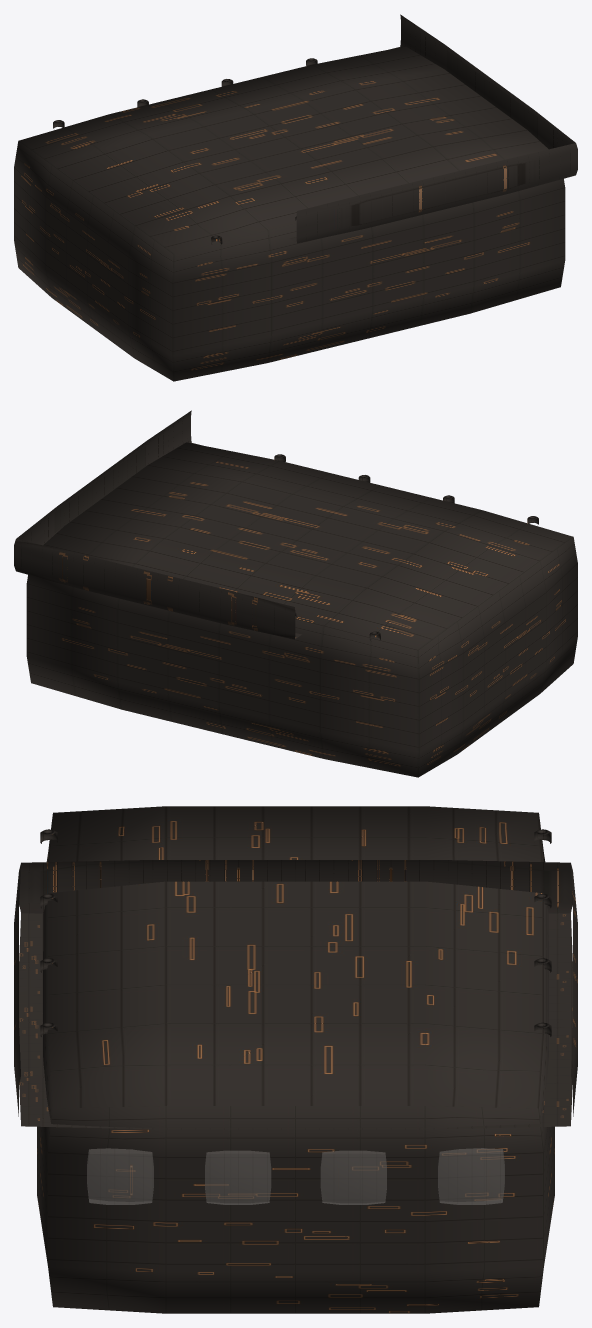
File: cockpit_slab.glb
3 views of the same model, one above another, from view 1: azimuth 30°, elevation 25°; view 2: azimuth 150°, elevation 25°; view 3: azimuth 270°, elevation 25° (orthographic). The views are drawn at different scales.
Visible parts, largest first — view 1: Slab_Bridge_Block, cockpit_slab_Material_Mechanical_Merged; view 2: Slab_Bridge_Block, cockpit_slab_Material_Mechanical_Merged; view 3: Slab_Bridge_Block, cockpit_slab_Material_Mechanical_Merged, cockpit_slab_Material_Glass_Merged.
Boxes of the visible parts, bbox=[...] form: Slab_Bridge_Block: bbox=[14, 46, 565, 381]; cockpit_slab_Material_Mechanical_Merged: bbox=[53, 14, 577, 244]; Slab_Bridge_Block: bbox=[26, 442, 577, 777]; cockpit_slab_Material_Mechanical_Merged: bbox=[14, 410, 538, 640]; Slab_Bridge_Block: bbox=[37, 806, 554, 1313]; cockpit_slab_Material_Mechanical_Merged: bbox=[14, 829, 577, 1129]; cockpit_slab_Material_Glass_Merged: bbox=[87, 1148, 504, 1204].
Bounding box in the file's own units: 4.85 × 1.85 × 3.7.
Materials: 4 (3 with a texture image).
